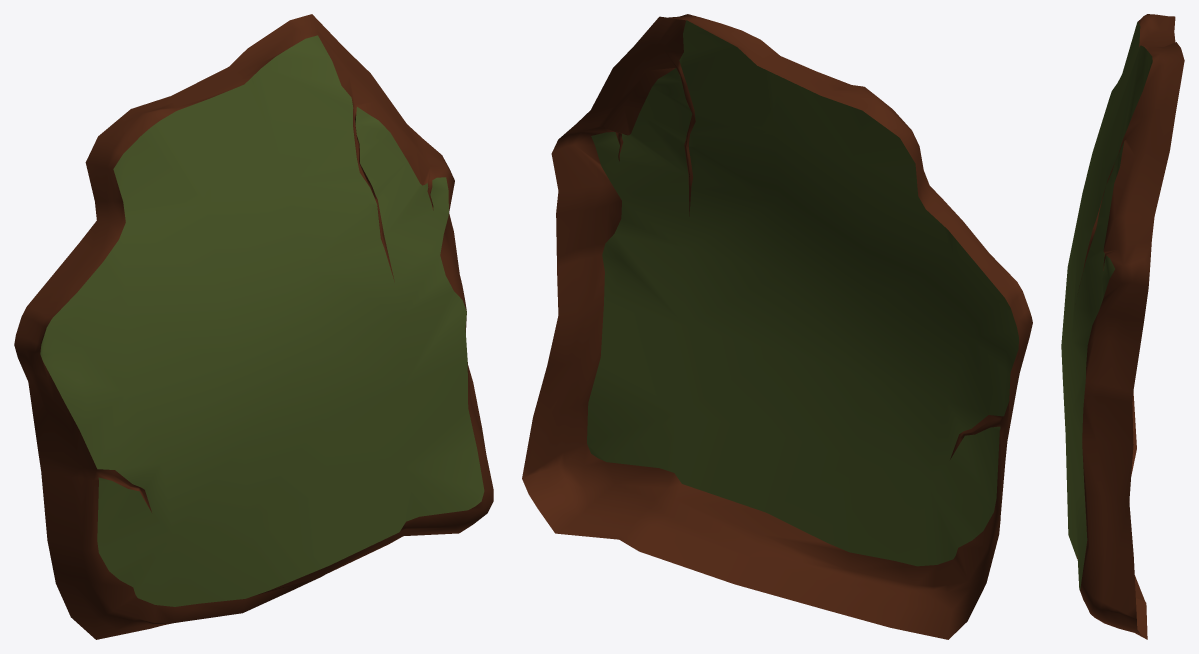
The model's file is env_excavationsite_mountainpiece01.fbx.
The picture shows the model from 3 angles, left to right: view 1: azimuth 30°, elevation 25°; view 2: azimuth 150°, elevation 25°; view 3: azimuth 270°, elevation 25°; orthographic projection. The views are drawn at different scales.
Visible parts, largest first — view 1: geo_excavation_mountainpiece01.005; view 2: geo_excavation_mountainpiece01.005; view 3: geo_excavation_mountainpiece01.005.
Boxes of the visible parts, x1,y1,x2,y2 form: geo_excavation_mountainpiece01.005: (14,14,493,639); geo_excavation_mountainpiece01.005: (522,14,1032,639); geo_excavation_mountainpiece01.005: (1061,14,1184,639).
Size of the model in its own units: 769 by 857 by 176.
